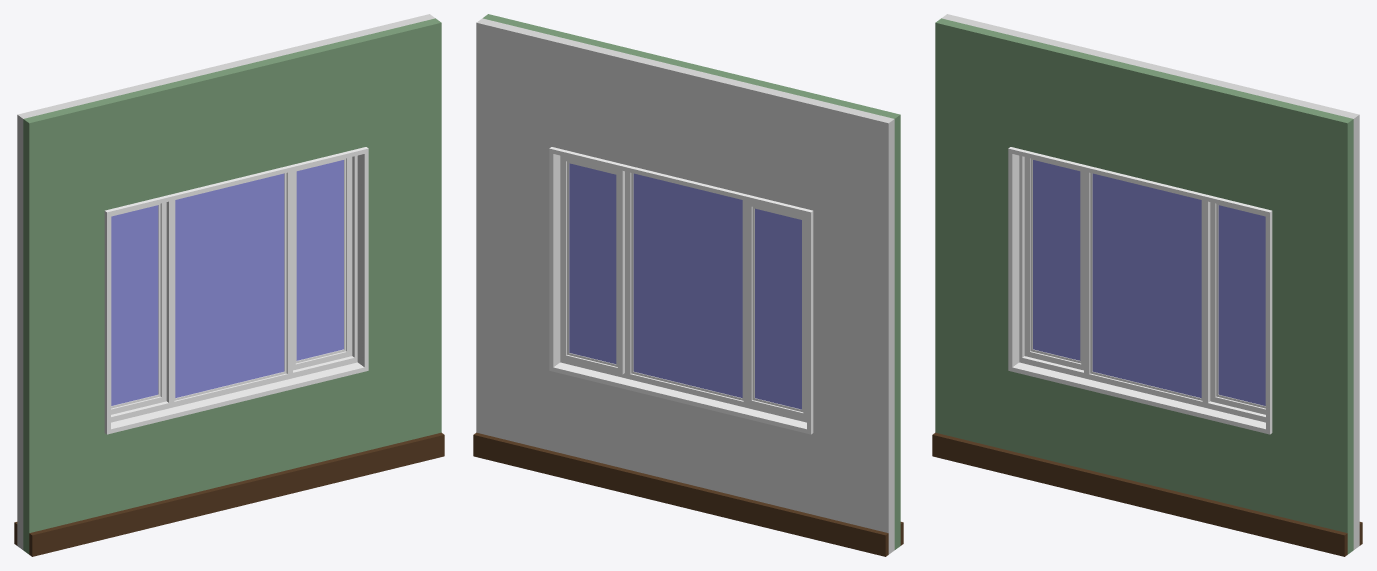
Rendered from h_wall_1_window3_4.fbx.
3 views of the same model, side by side, from view 1: azimuth 30°, elevation 25°; view 2: azimuth 150°, elevation 25°; view 3: azimuth 330°, elevation 25° (orthographic).
Visible parts, largest first — view 1: Cube, Window; view 2: Cube, Window; view 3: Cube, Window.
Part boxes in pixels (box(x1,y1,x2,y2)): Cube: box(14, 14, 444, 556); Window: box(104, 147, 368, 434); Cube: box(473, 14, 903, 556); Window: box(549, 147, 813, 434); Cube: box(932, 14, 1362, 556); Window: box(1008, 147, 1272, 434).
Size of the model in its own units: 400 by 400 by 30.
